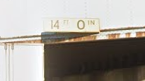1: (49, 18, 54, 30)
4: (53, 19, 60, 31)
overheadsign: (43, 16, 101, 34), (76, 18, 86, 31)
